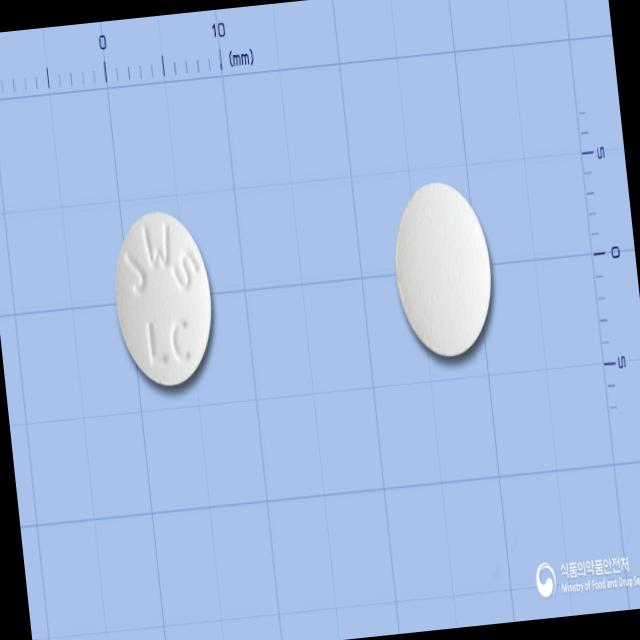Procin Tab: (107, 207, 220, 391)
